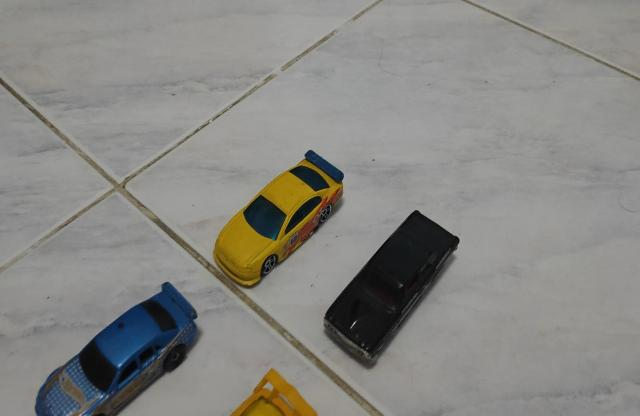01_FORD: (322, 212, 462, 368)
02_OZSOME: (210, 146, 345, 289)
04_MERZEDES: (33, 283, 202, 416)
07_RHLTURBO: (229, 369, 319, 416)
